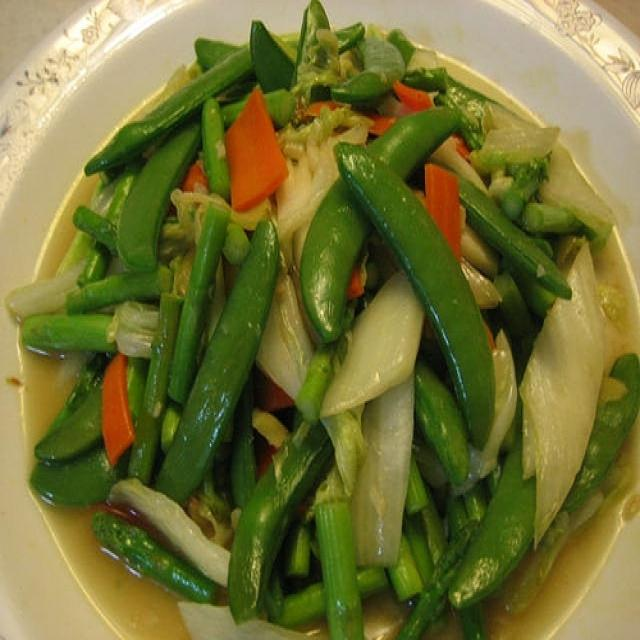蔬菜料理: (41, 26, 613, 626)
